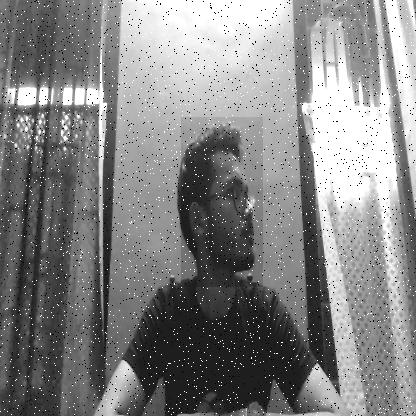Distracted: (181, 117, 263, 287)
